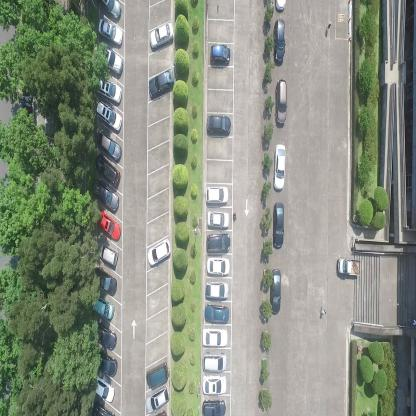car: (94, 130, 122, 164), (93, 153, 121, 186), (93, 178, 119, 212), (95, 100, 122, 132), (95, 210, 122, 242), (148, 66, 174, 99), (148, 19, 174, 51), (146, 236, 172, 268), (98, 44, 123, 77), (99, 16, 123, 49), (93, 318, 117, 350), (144, 384, 170, 413), (96, 75, 122, 104), (94, 267, 117, 297), (145, 361, 169, 389), (272, 18, 286, 65), (96, 349, 118, 378), (273, 143, 286, 192), (94, 374, 115, 404), (202, 351, 228, 374), (275, 78, 287, 127), (272, 202, 284, 250), (270, 268, 282, 316), (206, 113, 232, 135), (204, 302, 230, 324), (92, 296, 115, 320), (336, 256, 361, 278), (97, 241, 118, 267), (202, 375, 227, 396), (207, 209, 231, 230), (205, 281, 230, 301), (202, 328, 228, 347), (206, 233, 231, 252), (210, 44, 231, 66), (205, 185, 229, 204), (207, 257, 231, 276), (98, 0, 122, 19), (201, 398, 226, 416), (92, 400, 117, 416), (275, 0, 287, 14)
